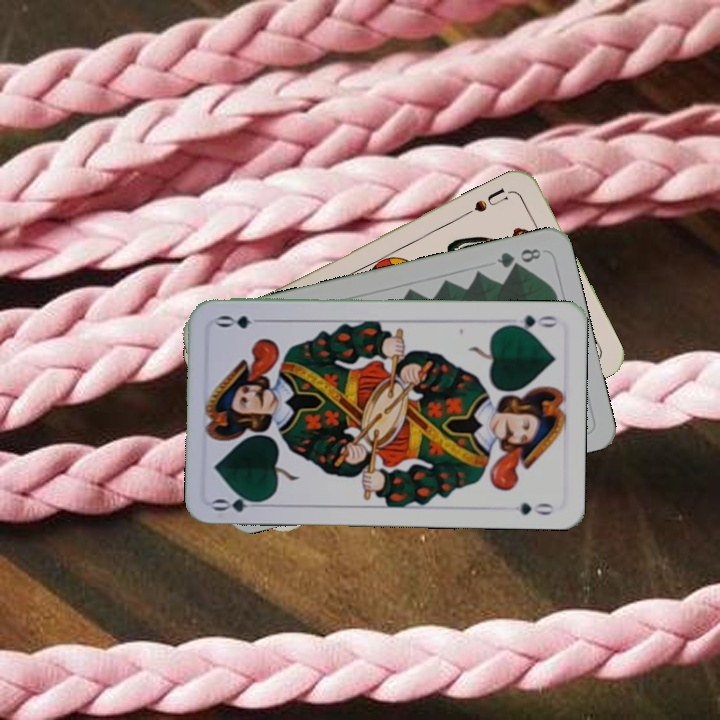G8: (493, 244, 544, 271)
GO: (209, 490, 269, 515), (502, 311, 561, 335)
SU: (462, 183, 511, 218)
